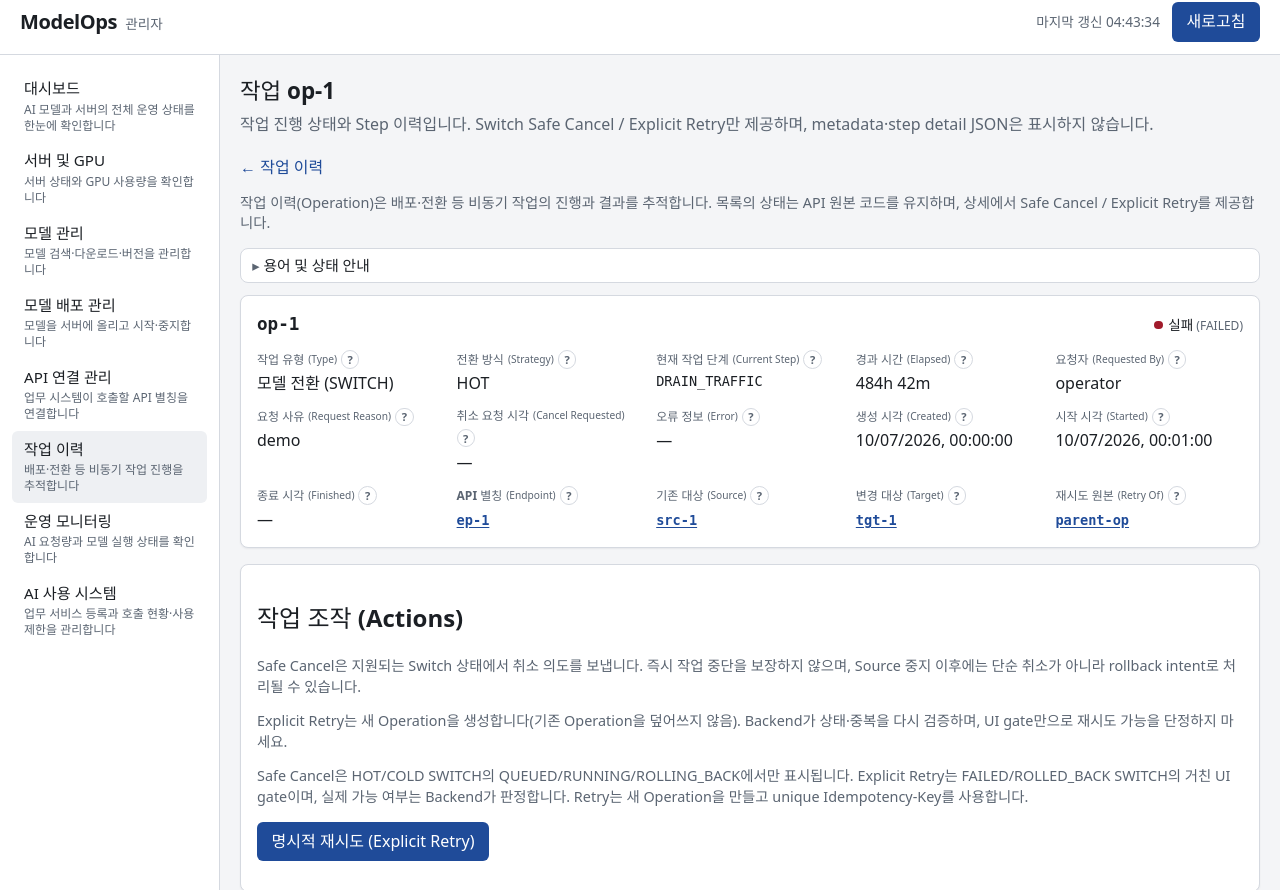
Scenario: OperationDetailPage › keeps stale Operation/Steps on retry 422
Expected: the heading "op-1" is shown, [257,312,299,338]
Click the button "명시적 재시도 (Explicit Retry)".
click(373, 842)  # box [257,822,489,861]
(page scrolled)
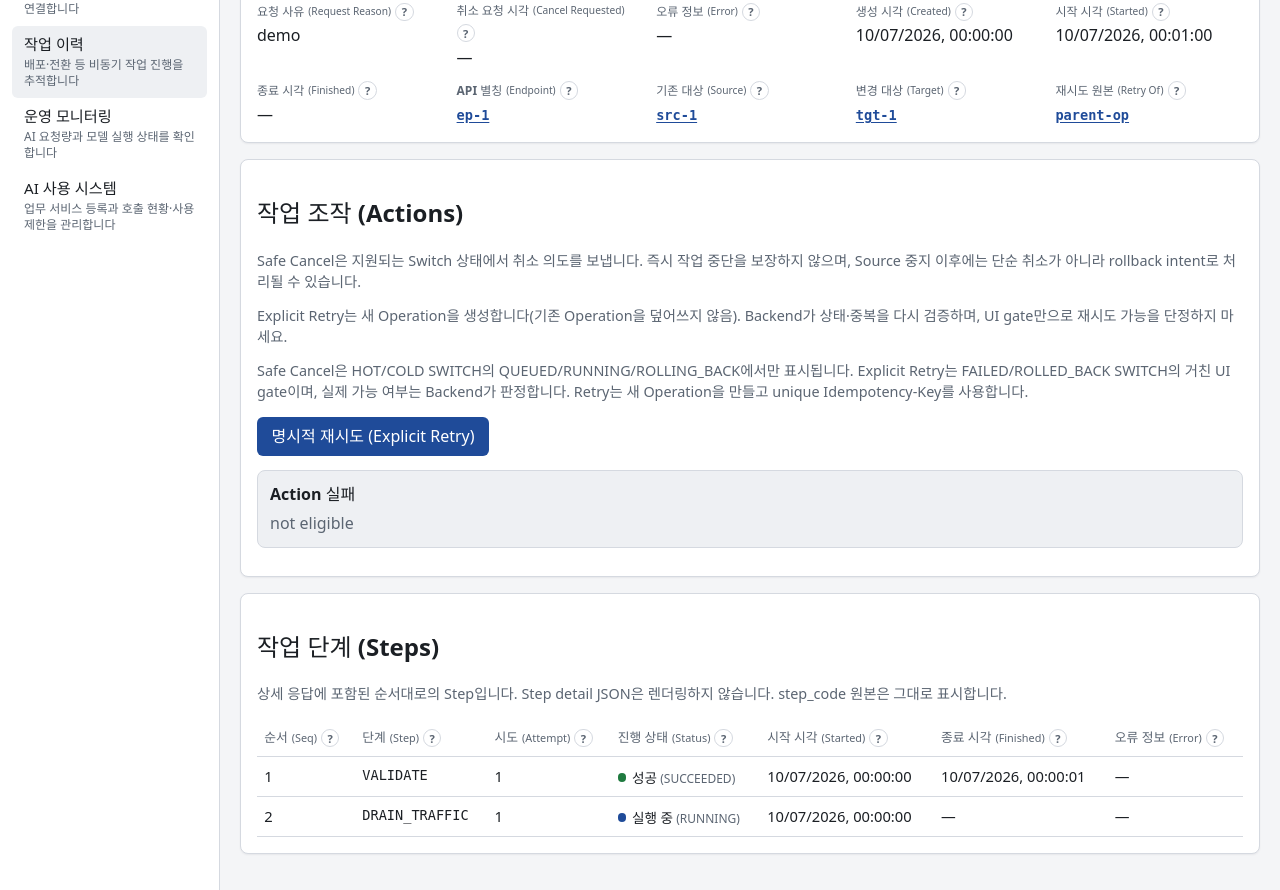
Expected: the text "DRAIN_TRAFFIC" is shown, [355,797,487,837]
Now the text "not eligible" is shown, box [270,512,354,534]
